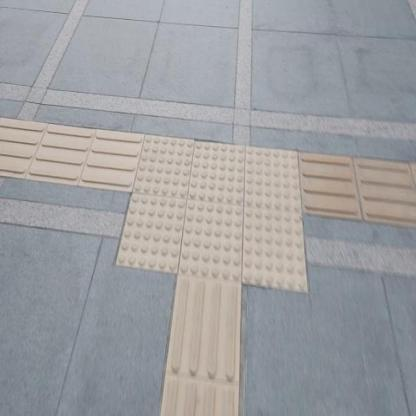podotacti: (97, 101, 329, 323), (156, 283, 246, 415), (0, 110, 131, 193), (302, 149, 416, 234)
